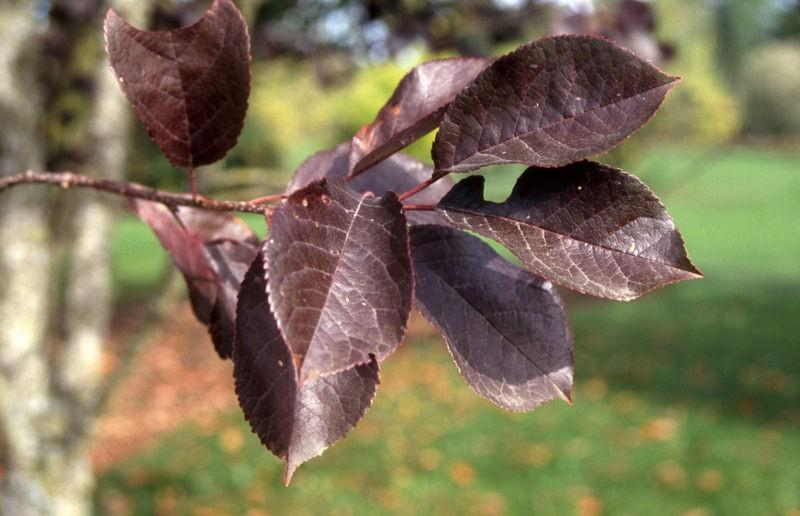Cherry leaf: (436, 159, 718, 311), (424, 28, 696, 182), (393, 213, 595, 414), (91, 6, 289, 184), (270, 175, 420, 371)
